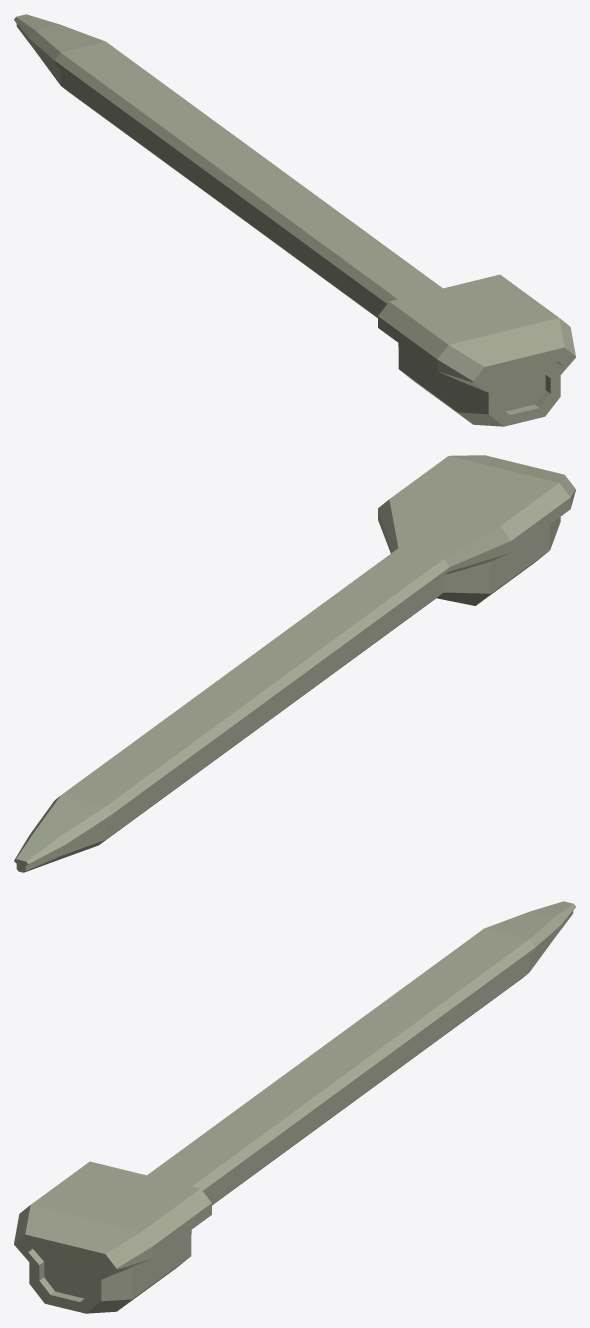
File: freighter_ssarith.glb
3 views of the same model, one above another, from view 1: azimuth 30°, elevation 25°; view 2: azimuth 150°, elevation 25°; view 3: azimuth 330°, elevation 25° (orthographic).
Visible parts, largest first — view 1: hull; view 2: hull; view 3: hull.
Part boxes in pixels (box(x1,y1,x2,y2)): hull: box(14, 14, 575, 426); hull: box(14, 455, 575, 872); hull: box(14, 901, 575, 1313).
Size of the model in its own units: 52 by 32 by 340.
